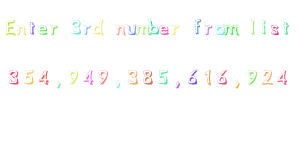,: (172, 80, 183, 90), (113, 79, 122, 91), (233, 80, 242, 91), (54, 80, 62, 90)
1: (201, 69, 215, 86)
2: (261, 68, 275, 87)
3: (125, 67, 140, 86), (7, 67, 19, 86), (70, 18, 82, 36)
4: (275, 69, 289, 87), (38, 69, 50, 87), (83, 69, 95, 86)
5: (23, 67, 36, 86), (156, 69, 170, 86)
6: (185, 68, 200, 86), (216, 67, 229, 87)
8: (140, 68, 155, 87)
9: (246, 67, 258, 86), (96, 68, 109, 85), (67, 69, 79, 85)
E: (3, 16, 16, 36)
b: (146, 16, 160, 35)
d: (91, 16, 104, 36)
e: (158, 22, 170, 37), (37, 22, 48, 36)
f: (191, 17, 202, 36)
i: (259, 18, 268, 37)
l: (248, 16, 258, 36)
m: (135, 23, 152, 38), (223, 24, 240, 36)
n: (114, 21, 126, 37), (16, 23, 27, 36)
o: (214, 23, 226, 36)
r: (170, 22, 181, 38), (202, 23, 214, 37), (48, 23, 59, 37), (82, 24, 91, 35)
s: (269, 23, 280, 36)
t: (27, 19, 37, 36), (282, 20, 291, 36)
u: (127, 23, 138, 37)
